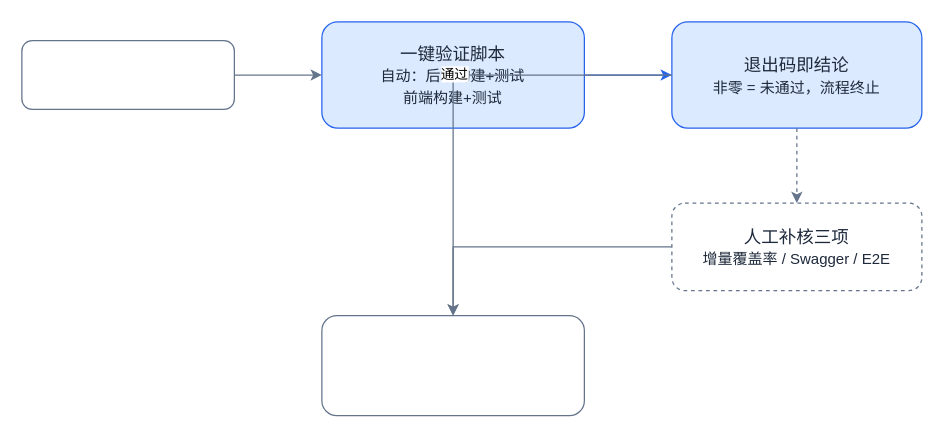
The diagram is 944 pixels wide and 438 high, and some of its shapes have lost their labels. Here are the shapes that lost their labels. From the top down, the box of each, then its label:
(21, 39, 234, 109): Agent 声称完成
(321, 314, 584, 416): MR 创建 工作项状态更新 评论附证据摘要
